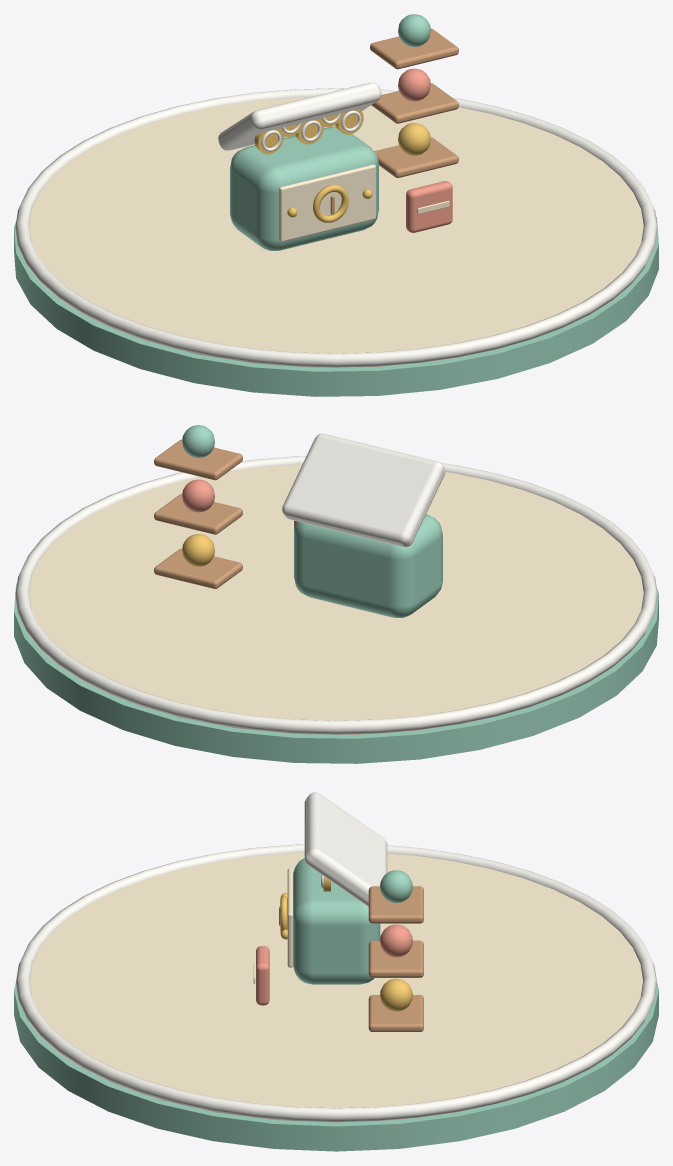
File: portfolio.glb
3 views of the same model, one above another, from view 1: azimuth 30°, elevation 25°; view 2: azimuth 150°, elevation 25°; view 3: azimuth 270°, elevation 25° (orthographic).
Parts seen in each view (by area): view 1: Island, PersonalVault, carnival_portfolio, PersonalVaultLid, Shelf2, Shelf1, Shelf0; view 2: Island, PersonalVaultLid, PersonalVault, Shelf2, Shelf1, Shelf0; view 3: Island, PersonalVault, PersonalVaultLid, Shelf2, Shelf1, Shelf0, carnival_portfolio.
Boxes of the visible parts, x1,y1,x2,y2 form: Island: [14, 88, 658, 396]; PersonalVault: [230, 126, 378, 250]; carnival_portfolio: [254, 109, 452, 232]; PersonalVaultLid: [218, 82, 381, 150]; Shelf2: [370, 14, 458, 69]; Shelf1: [371, 68, 458, 123]; Shelf0: [374, 123, 458, 177]; Island: [14, 456, 658, 763]; PersonalVaultLid: [282, 433, 445, 547]; PersonalVault: [294, 514, 442, 617]; Shelf2: [154, 425, 242, 480]; Shelf1: [154, 479, 242, 534]; Shelf0: [154, 534, 242, 588]; Island: [14, 844, 658, 1151]; PersonalVault: [279, 858, 380, 984]; PersonalVaultLid: [304, 792, 387, 906]; Shelf2: [368, 870, 423, 923]; Shelf1: [368, 924, 423, 977]; Shelf0: [368, 978, 423, 1031]; carnival_portfolio: [253, 874, 330, 1005].
Bounding box in the file's own units: 7 × 2.35 × 7.
